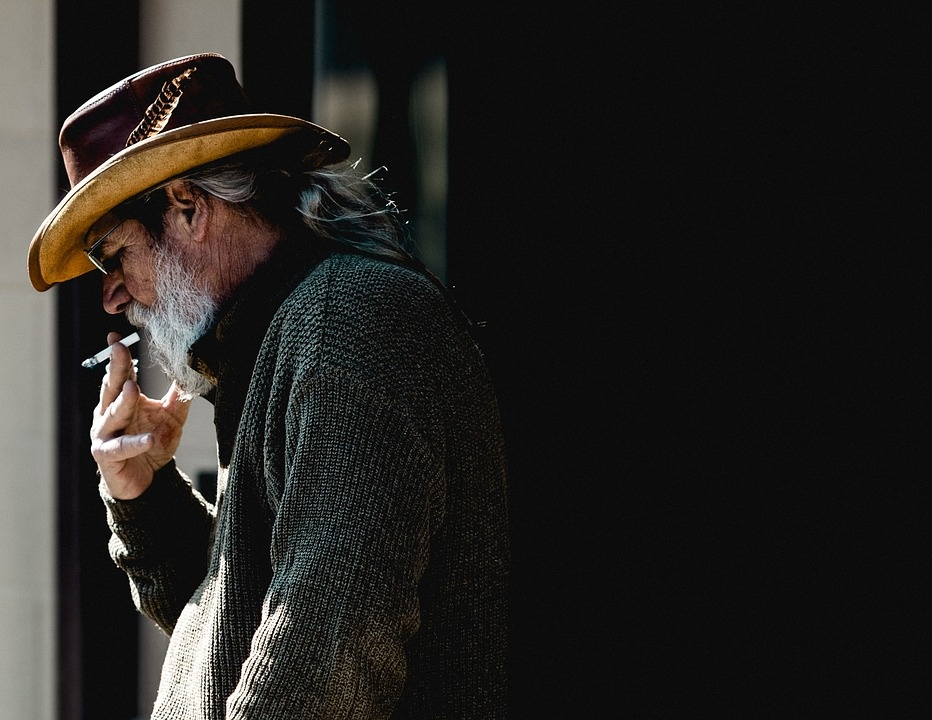sigaretta: (81, 324, 140, 371)
